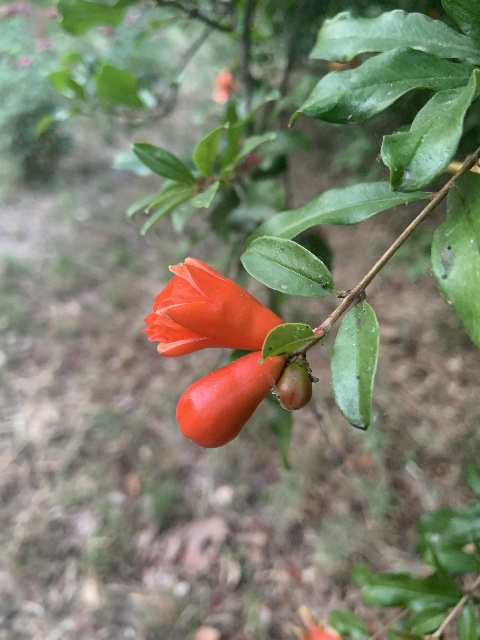bud: (176, 351, 285, 449), (276, 362, 311, 411)
flower: (141, 257, 284, 363)
